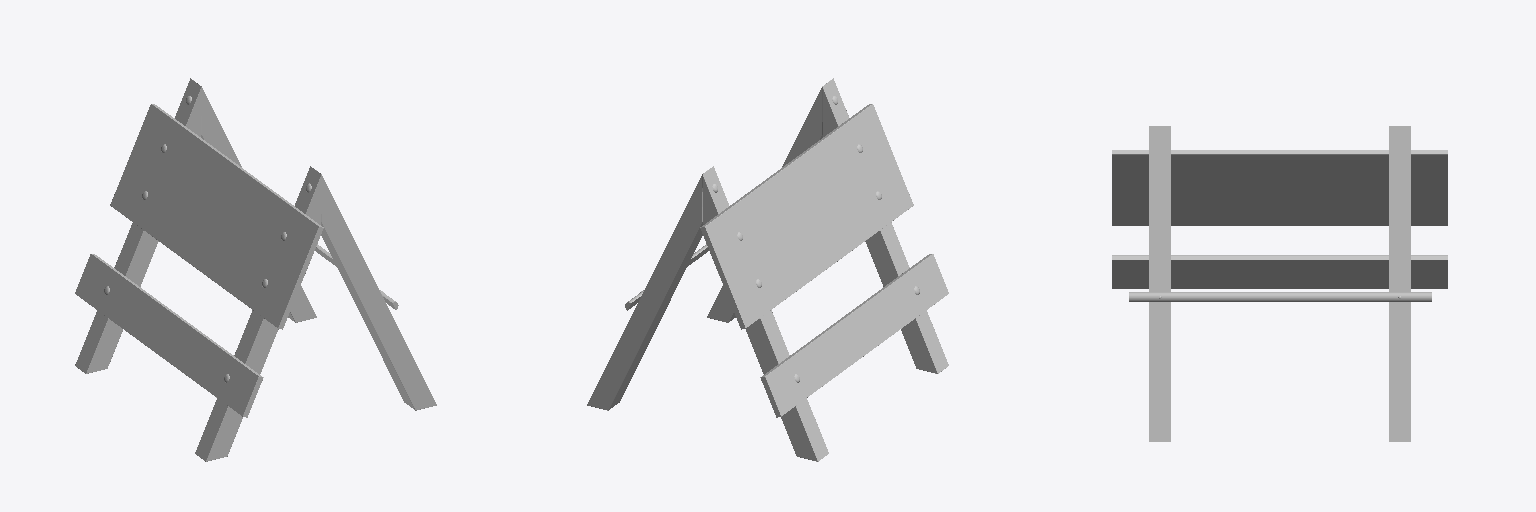
File: barrier.obj
3 renders of one model, left to right at view 1: azimuth 30°, elevation 25°; view 2: azimuth 150°, elevation 25°; view 3: azimuth 270°, elevation 25°, orthographic.
Parts seen in each view (by area): view 1: Barrier_001; view 2: Barrier_001; view 3: Barrier_001.
Boxes of the visible parts, <box> form: Barrier_001: <box>75,78,436,461</box>; Barrier_001: <box>587,78,948,461</box>; Barrier_001: <box>1112,126,1447,441</box>.
Bounding box in the file's own units: 119 × 127 × 150.